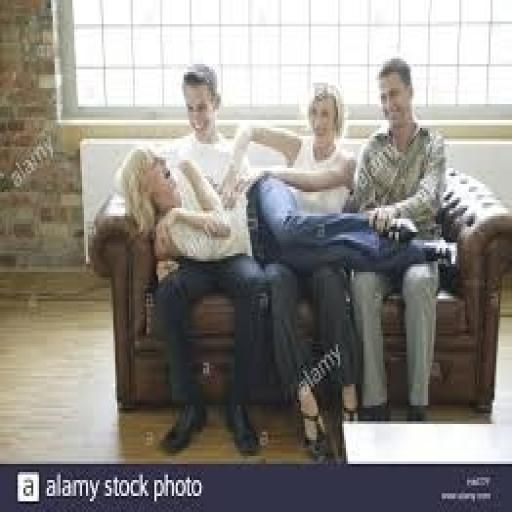sitting: (116, 53, 454, 456)
